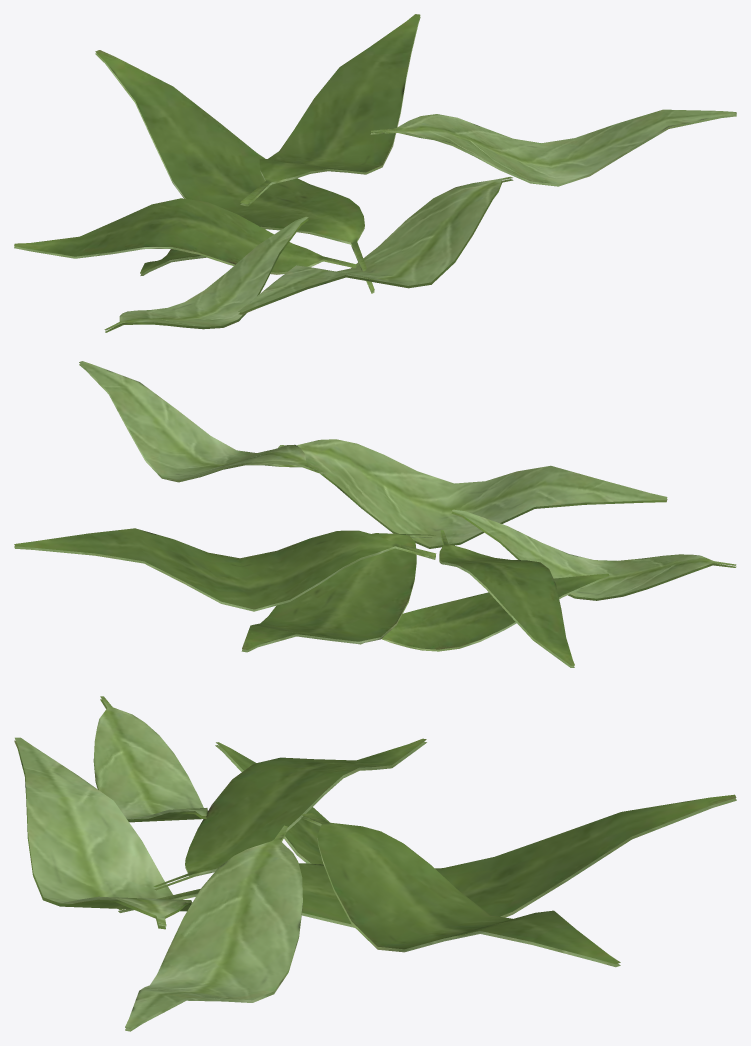
File: Potongan Kangkung.fbx
3 renders of one model, top to bottom at view 1: azimuth 30°, elevation 25°; view 2: azimuth 150°, elevation 25°; view 3: azimuth 270°, elevation 25°, orthographic. The views are drawn at different scales.
Parts seen in each view (by area): view 1: Potongan Kangkung; view 2: Potongan Kangkung; view 3: Potongan Kangkung.
Part boxes in pixels (x1=…): Potongan Kangkung: x1=14, y1=14, x2=736, y2=332; Potongan Kangkung: x1=14, y1=361, x2=736, y2=667; Potongan Kangkung: x1=14, y1=696, x2=736, y2=1031.
Size of the model in its own units: 33.95 by 5.56 by 25.91.
1 material, 1 textured.
